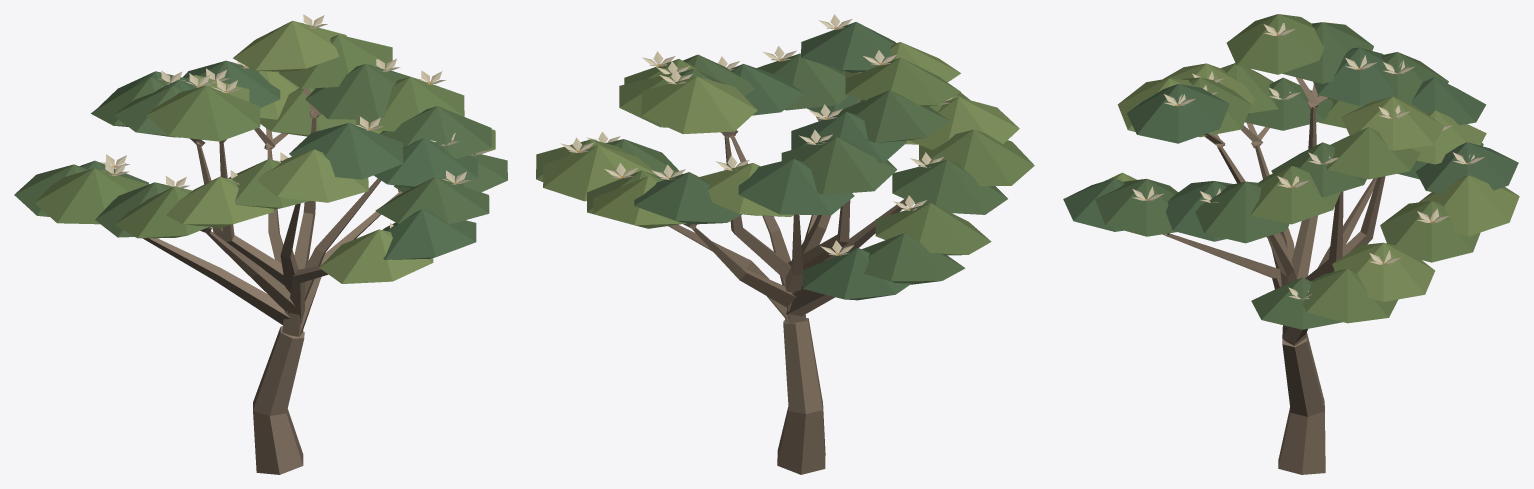
File: Frangipani_LOD2.glb
3 renders of one model, left to right at view 1: azimuth 30°, elevation 25°; view 2: azimuth 150°, elevation 25°; view 3: azimuth 270°, elevation 25°, orthographic.
Parts seen in each view (by area): view 1: Frangipani_LOD2; view 2: Frangipani_LOD2; view 3: Frangipani_LOD2.
Part boxes in pixels (<box>): Frangipani_LOD2: <box>14,14,507,474</box>; Frangipani_LOD2: <box>536,14,1034,474</box>; Frangipani_LOD2: <box>1063,14,1519,474</box>.
Bounding box in the file's own units: 7.88 × 7 × 6.99.
